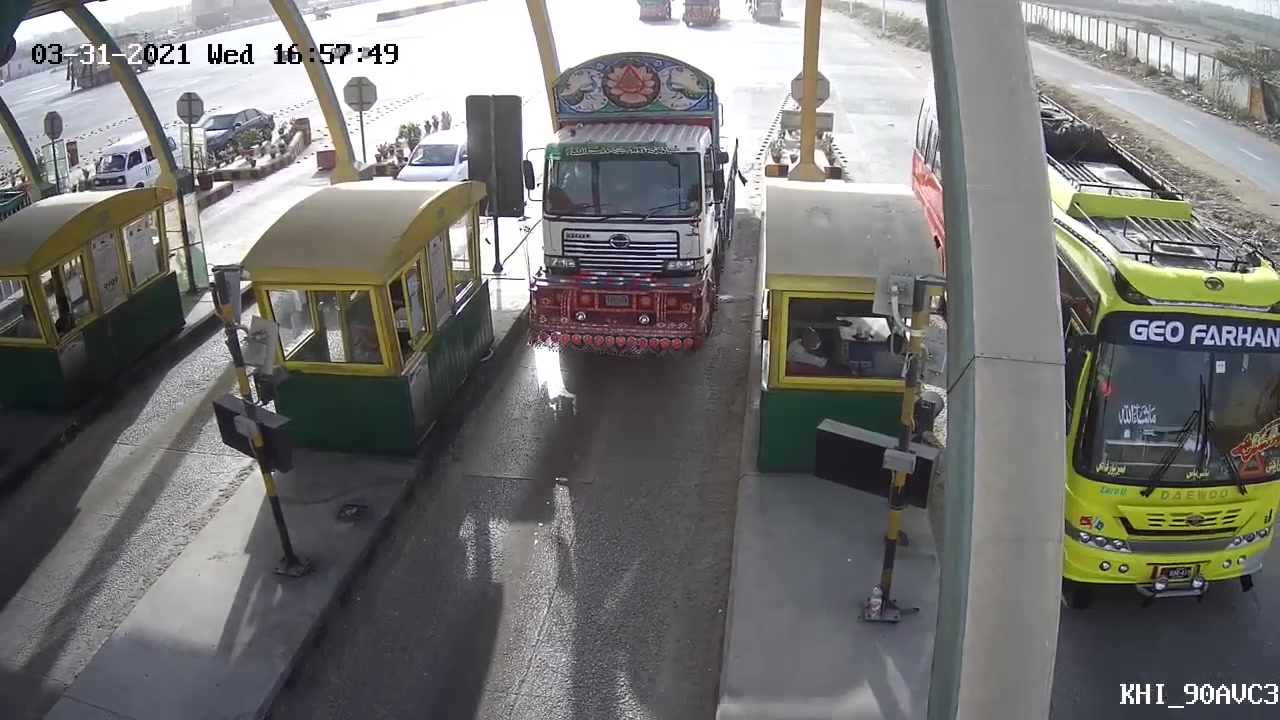F5: (524, 49, 746, 357)
